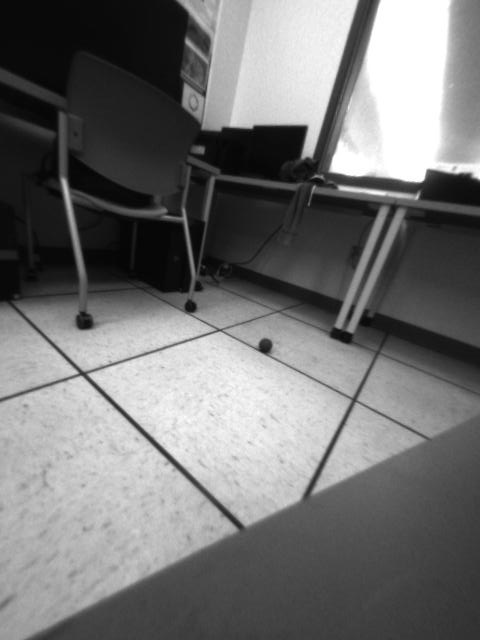dogtoy: (251, 327, 279, 358)
